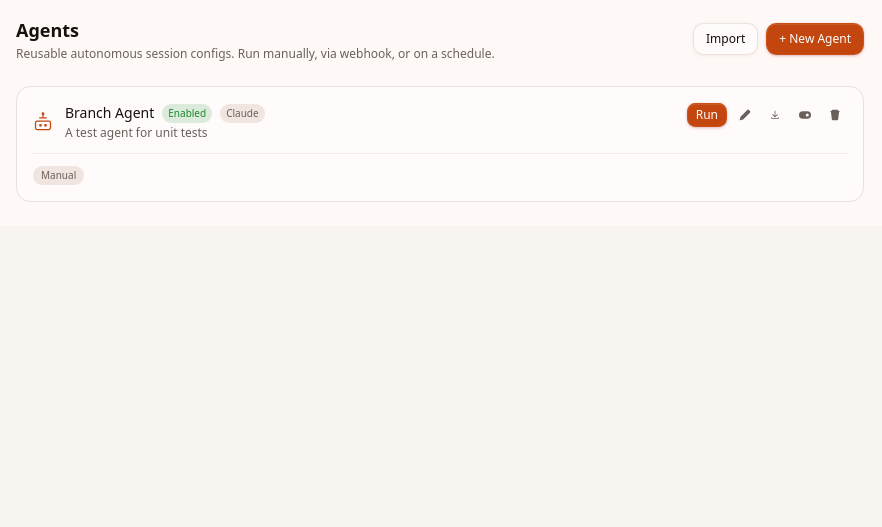
Test case: AgentsPage › branch pill appears when folder is set and shows inline input
Check: the heading "Branch Agent" is shown, box [65,103,154,123]
Click the button titled "Edit".
click(745, 115)  # box [733,103,757,127]
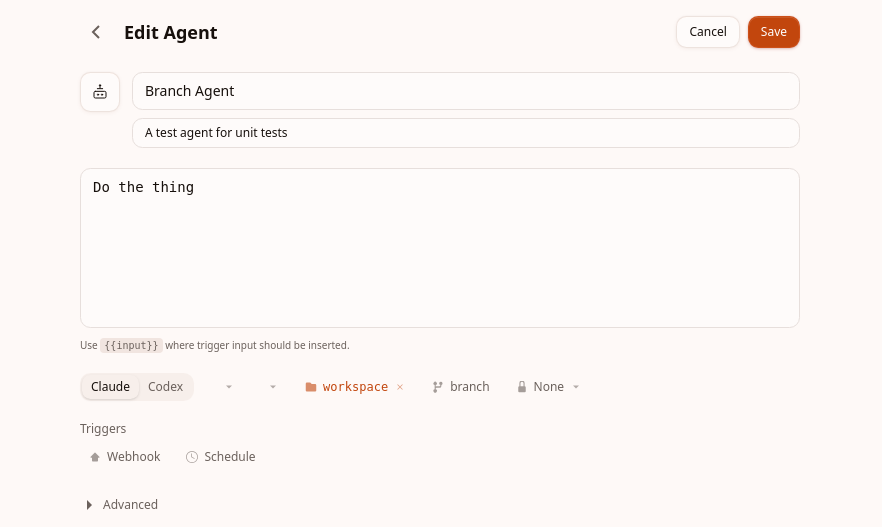
Check: the text "branch" is shown, box [450,379,490,395]
// Click branch pill to show inline input
Click the button "branch".
click(461, 387)  # box [423,375,498,399]
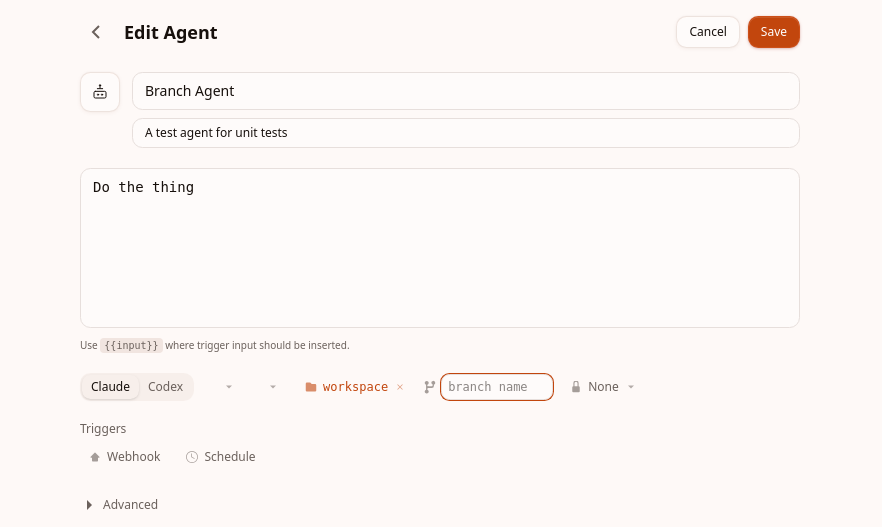
Check: the field with placeholder "branch name" is shown, box [441,374,553,400]
